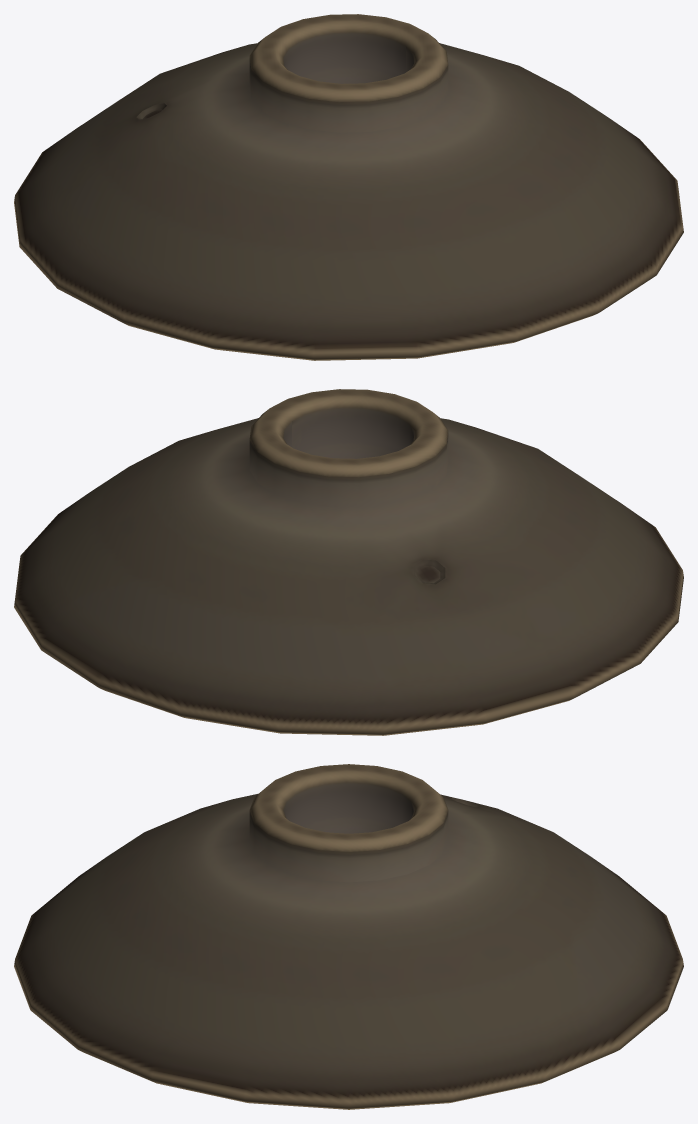
Rendered from JapaneseRestaurant_PotACover.fbx.
3 renders of one model, top to bottom at view 1: azimuth 30°, elevation 25°; view 2: azimuth 150°, elevation 25°; view 3: azimuth 270°, elevation 25°, orthographic.
Parts seen in each view (by area): view 1: JapaneseRestaurant_PotACover; view 2: JapaneseRestaurant_PotACover; view 3: JapaneseRestaurant_PotACover.
Boxes of the visible parts, bbox=[...] form: JapaneseRestaurant_PotACover: bbox=[14, 14, 683, 360]; JapaneseRestaurant_PotACover: bbox=[14, 389, 683, 735]; JapaneseRestaurant_PotACover: bbox=[14, 764, 683, 1109].
Size of the model in its own units: 16.69 by 4.65 by 16.69.
